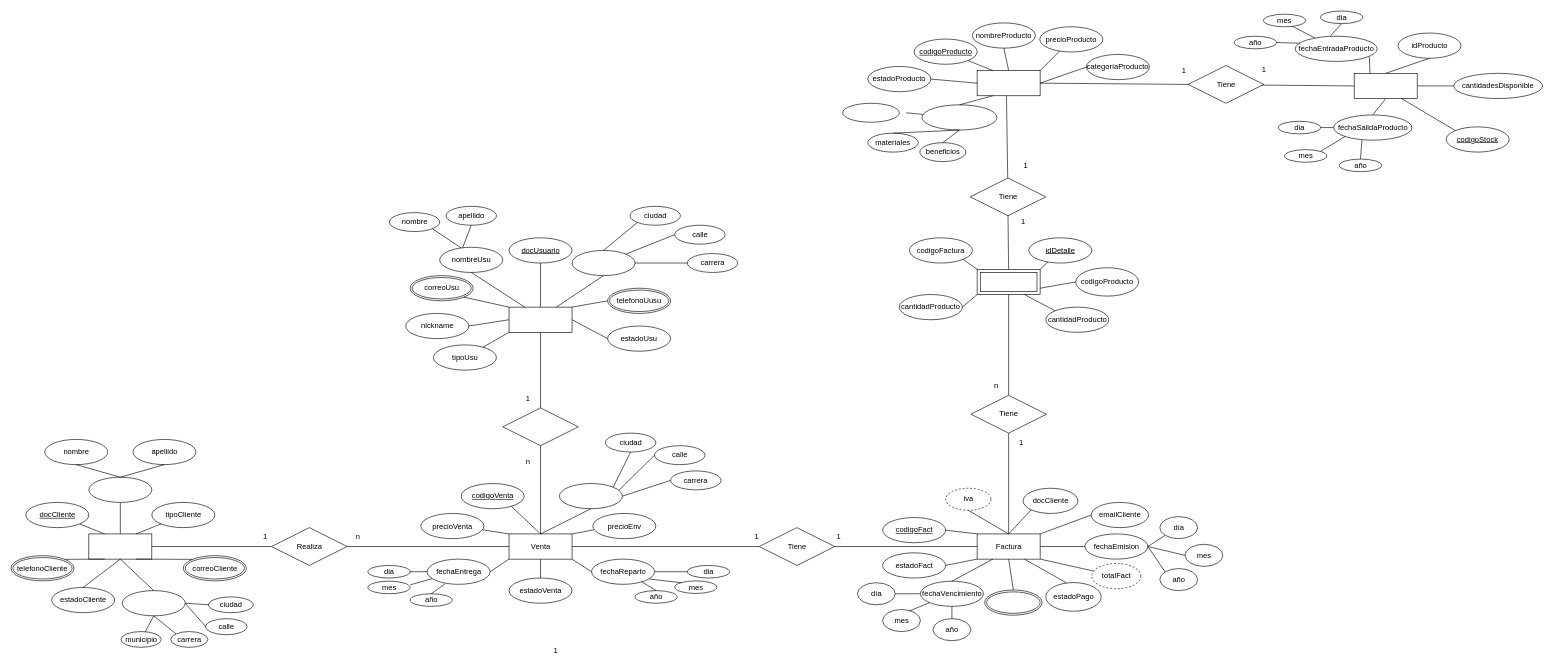
This 1554x670 diagram has some shape labels left out. Here are the shapes that lost their labels. From the top down, the centre of each, then its label:
point 1008,83: Producto
point 1385,86: Stock
point 870,112: características
point 959,117: descripciónProducto
point 603,263: direcciónUsu
point 1008,282: detallesFactura
point 540,319: Usuario
point 540,426: Genera
point 120,489: nombreCliente
point 590,496: direccionEnvio
point 120,546: Cliente
point 153,603: direcciónCliente
point 1013,602: medioPago
